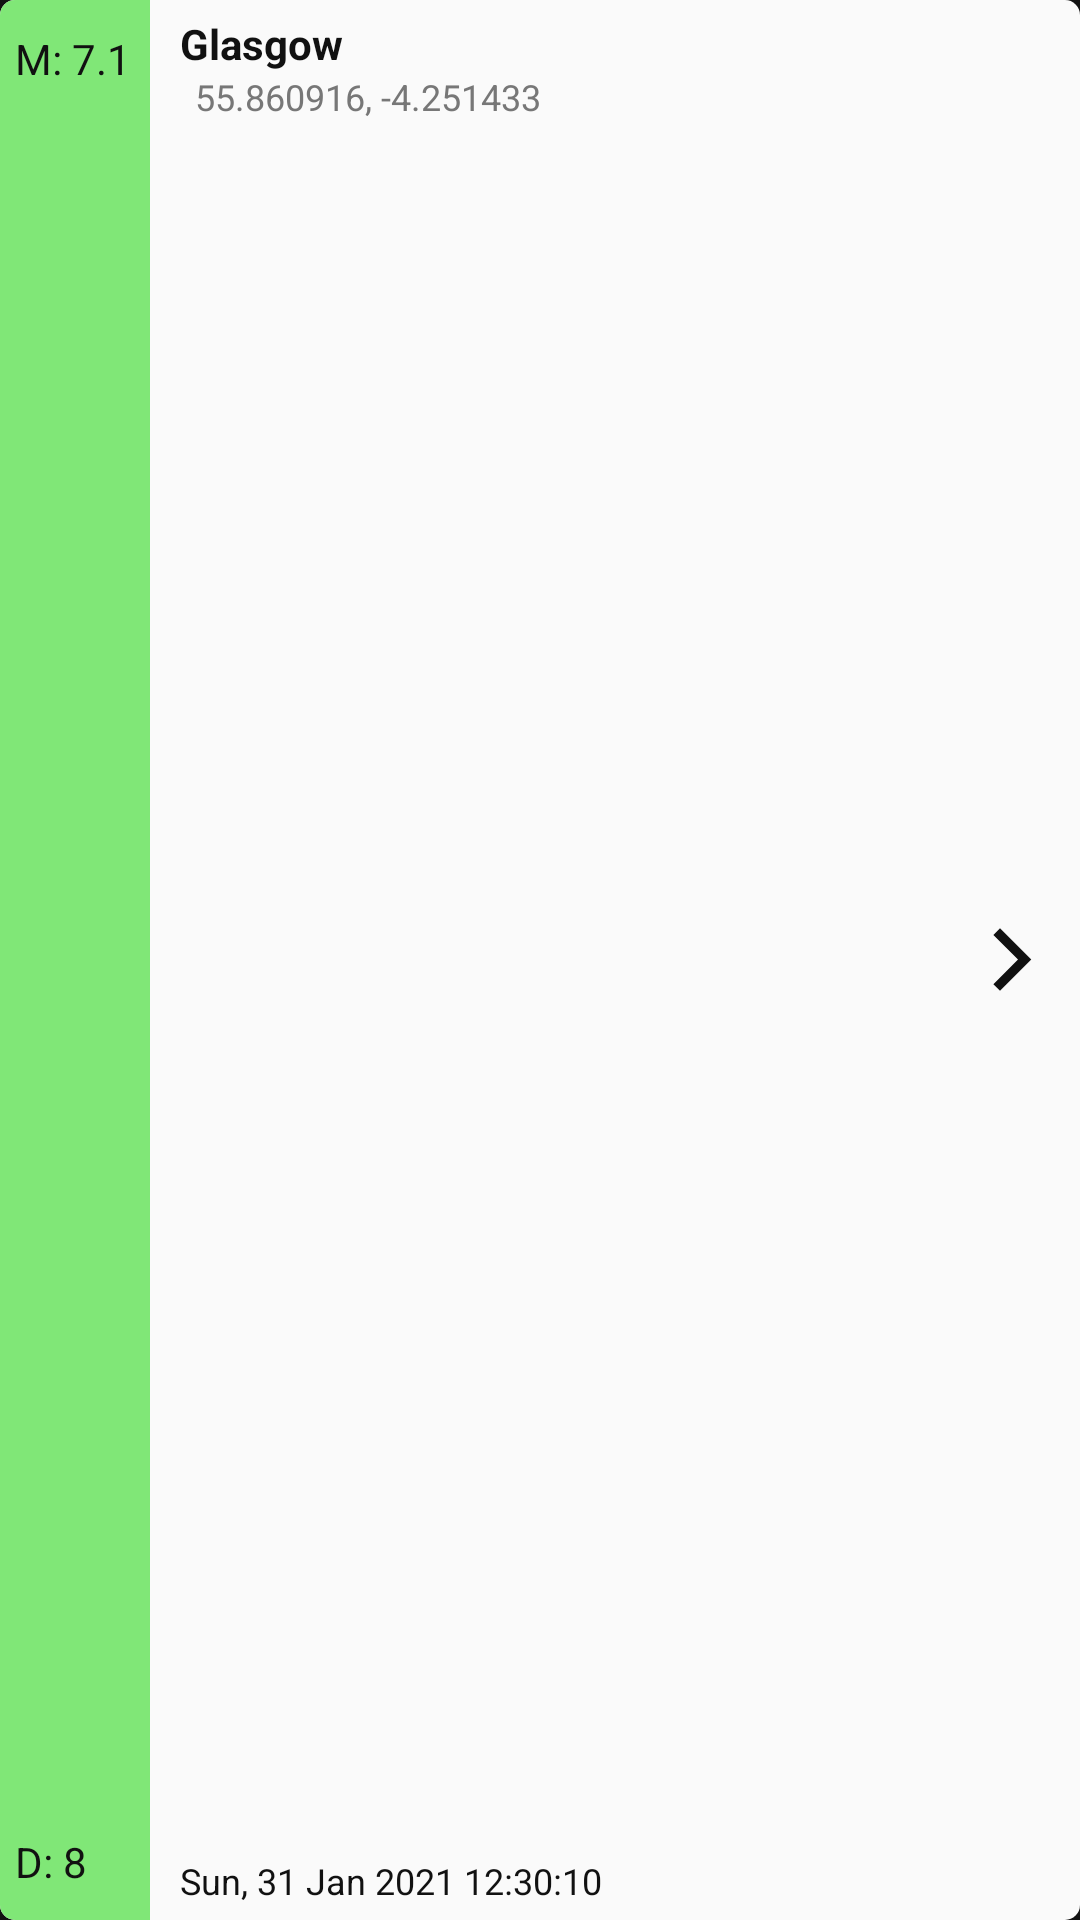

Named icons in this screenshot (1080 × 1920) and their bounding boxes, (x1, y1, x2, y2):
arrow open: (993, 928, 1031, 991)
